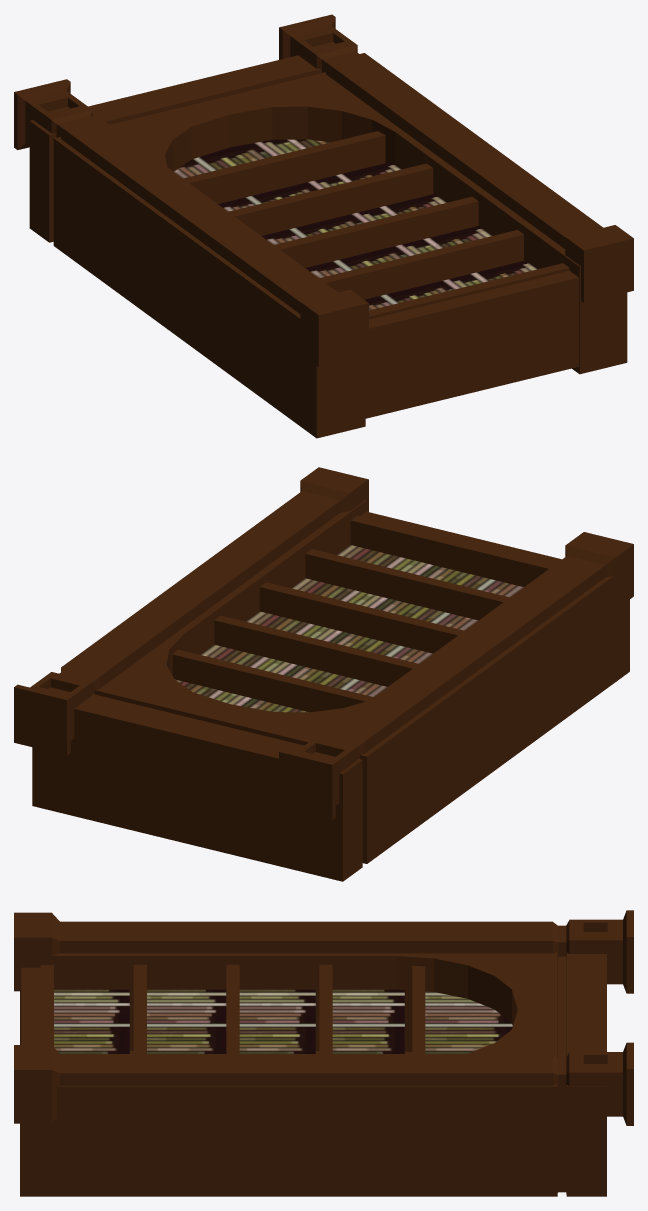
File: Bibliotheque1.fbx
The picture shows the model from 3 angles, top to bottom: view 1: azimuth 30°, elevation 25°; view 2: azimuth 150°, elevation 25°; view 3: azimuth 270°, elevation 25°; orthographic projection. The views are drawn at different scales.
Parts seen in each view (by area): view 1: bibliotheque, Plane.003, Plane.005, Plane.001, Plane.004, Plane.002; view 2: bibliotheque, Plane.003, Plane.004, Plane.002, Plane.001, Plane.005; view 3: bibliotheque, Plane.003, Plane.001, Plane.004, Plane.002, Plane.005.
Boxes of the visible parts, x1=… form: bibliotheque: x1=14, y1=14, x2=633, y2=438; Plane.003: x1=305, y1=226, x2=491, y2=278; Plane.005: x1=174, y1=139, x2=330, y2=178; Plane.001: x1=262, y1=194, x2=446, y2=244; Plane.004: x1=364, y1=260, x2=537, y2=310; Plane.002: x1=218, y1=162, x2=401, y2=211; bibliotheque: x1=14, y1=467, x2=633, y2=881; Plane.003: x1=291, y1=578, x2=478, y2=630; Plane.004: x1=337, y1=545, x2=523, y2=597; Plane.002: x1=201, y1=644, x2=387, y2=696; Plane.001: x1=246, y1=611, x2=432, y2=663; Plane.005: x1=175, y1=679, x2=308, y2=712; bibliotheque: x1=14, y1=910, x2=633, y2=1196; Plane.003: x1=147, y1=989, x2=226, y2=1053; Plane.001: x1=239, y1=989, x2=315, y2=1053; Plane.004: x1=54, y1=989, x2=129, y2=1053; Plane.002: x1=332, y1=989, x2=404, y2=1053; Plane.005: x1=425, y1=991, x2=512, y2=1053.
Size of the model in its own units: 156 by 59.44 by 257.
Materials: 2 (1 with a texture image).
